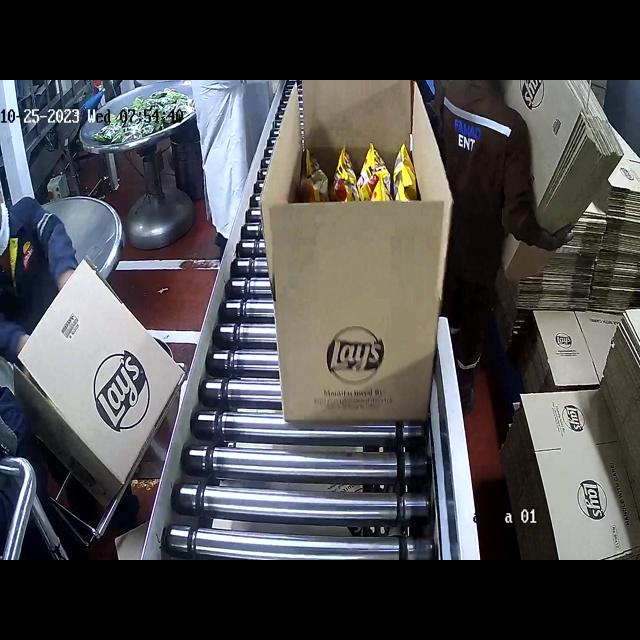salted: (299, 143, 428, 204)
